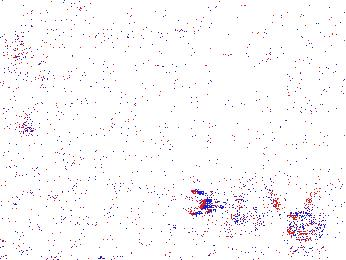flame jellyfish: (189, 181, 278, 241), (1, 47, 49, 133), (285, 182, 346, 242)
